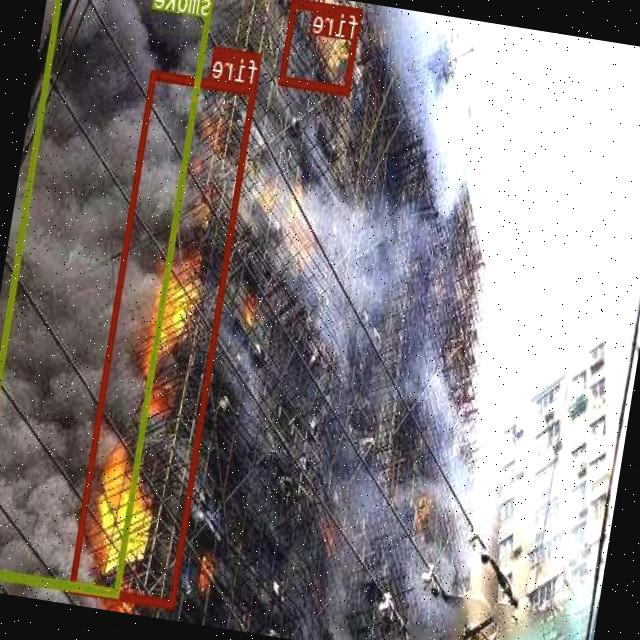fire: (70, 70, 258, 608), (280, 0, 364, 94)
smoke: (0, 0, 217, 596)
